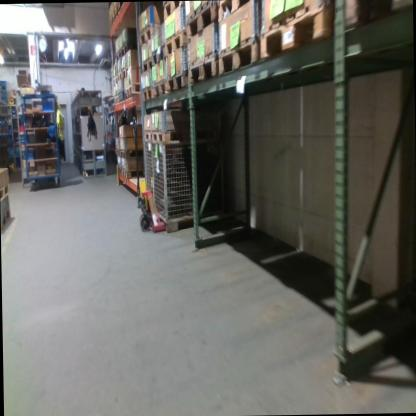pallet: (253, 0, 337, 65), (220, 30, 260, 76), (187, 0, 218, 45), (190, 48, 219, 85), (216, 0, 255, 23), (151, 130, 215, 144), (162, 27, 188, 60), (164, 67, 190, 96), (137, 22, 163, 44), (162, 1, 188, 20), (120, 39, 137, 62), (124, 81, 141, 101), (0, 206, 10, 235), (153, 77, 165, 99), (151, 46, 163, 68), (119, 147, 142, 158), (123, 63, 137, 81), (140, 86, 153, 103), (112, 2, 123, 21), (141, 57, 151, 77), (122, 167, 142, 177), (0, 181, 10, 201), (142, 130, 153, 141), (113, 49, 120, 66), (116, 89, 123, 105), (108, 17, 116, 30), (117, 68, 122, 85), (117, 164, 123, 176), (113, 93, 117, 107), (113, 74, 117, 87), (114, 147, 120, 153)
pallet_truck: (128, 112, 169, 234)
stillage: (150, 134, 231, 234), (142, 134, 153, 207)
